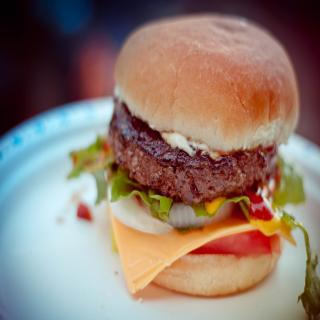Hamburger: (67, 14, 320, 320)
